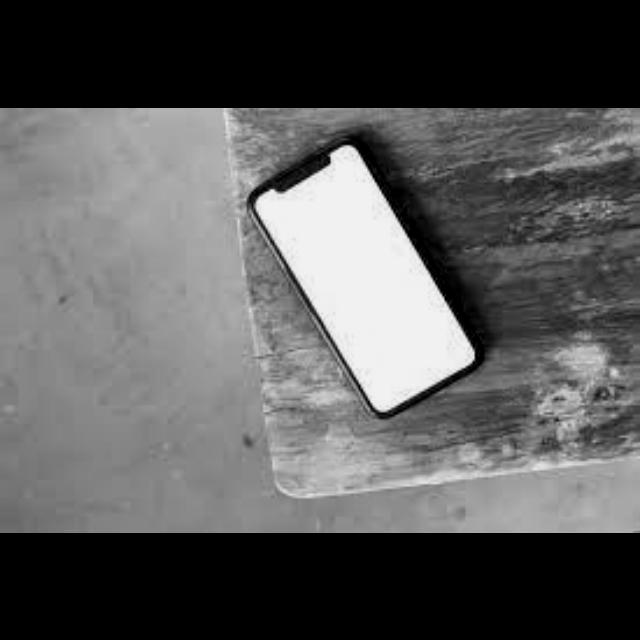fake: (253, 137, 485, 410)
